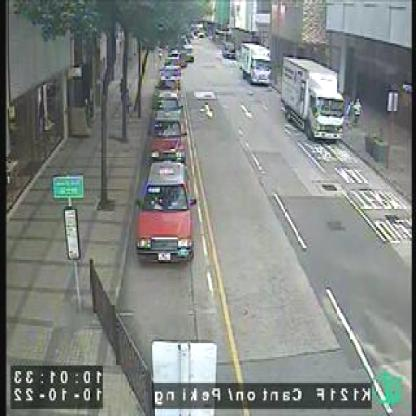Car: (136, 157, 196, 261), (135, 206, 199, 265), (146, 95, 186, 160), (165, 48, 182, 69), (182, 44, 197, 66)
Truck: (282, 56, 344, 144), (239, 42, 270, 88)
